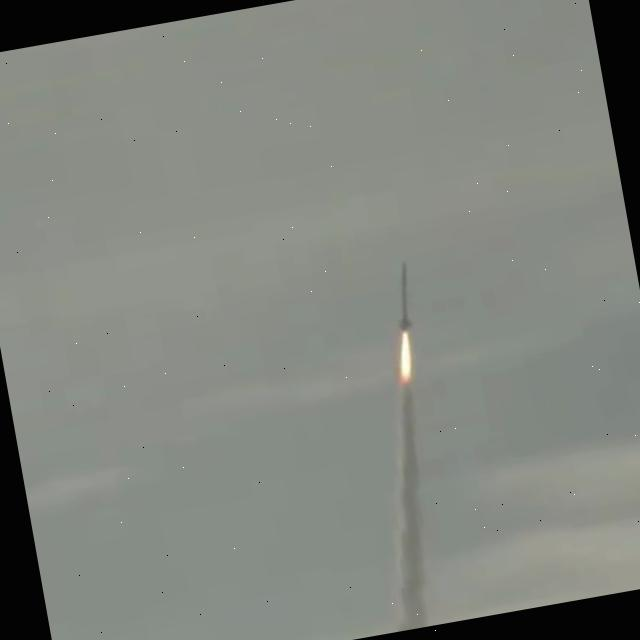smoke_trail_with_rocket: (393, 262, 429, 631)
